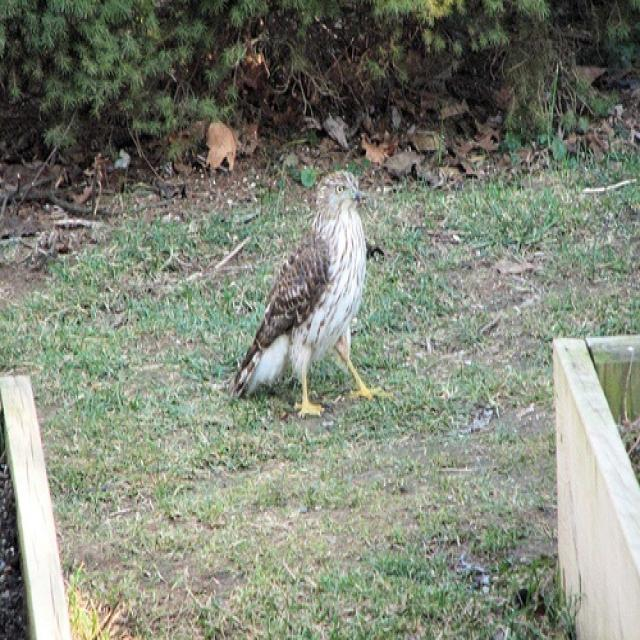bird: (235, 168, 388, 416)
